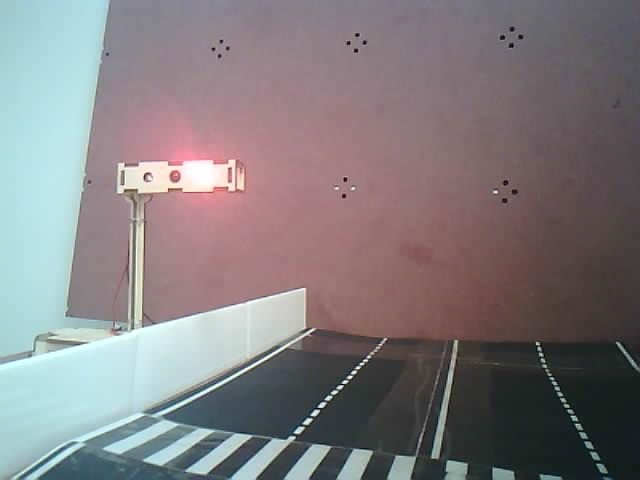crosswalk: (63, 399, 640, 480)
red: (110, 153, 275, 275)
